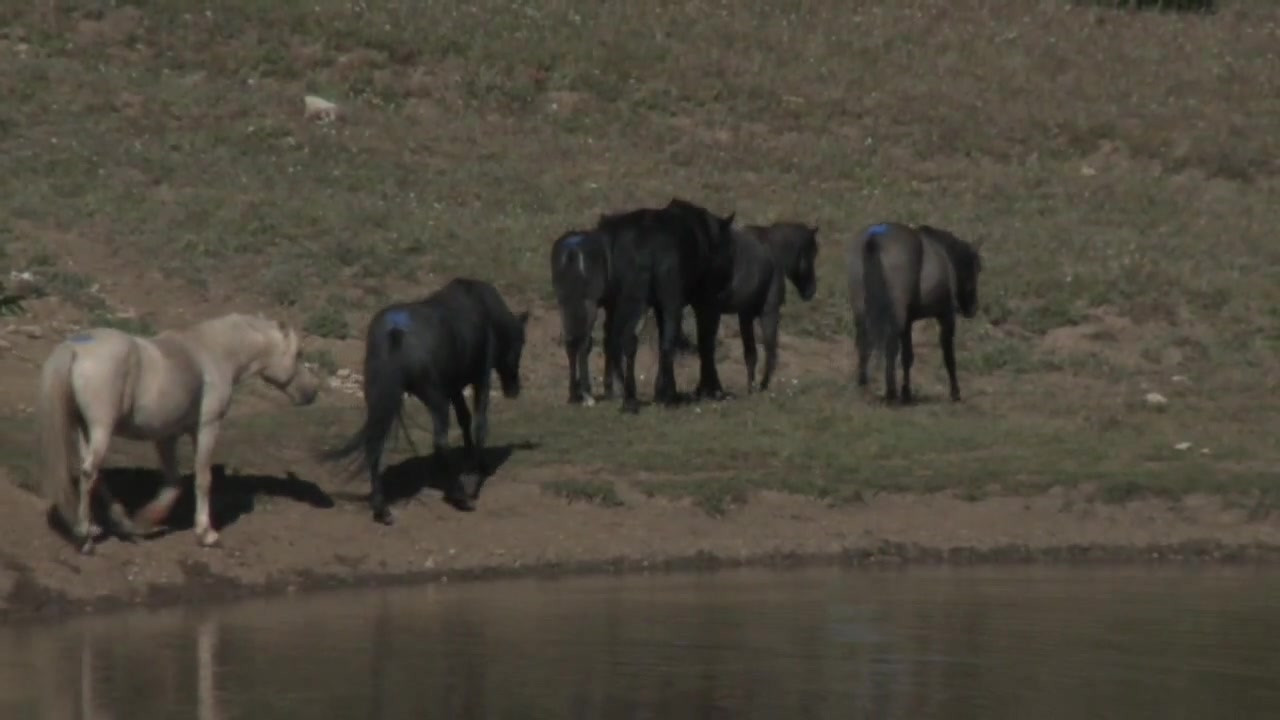horse: (39, 313, 327, 563), (335, 273, 537, 532), (549, 199, 743, 404), (674, 216, 828, 398), (850, 223, 988, 407)
